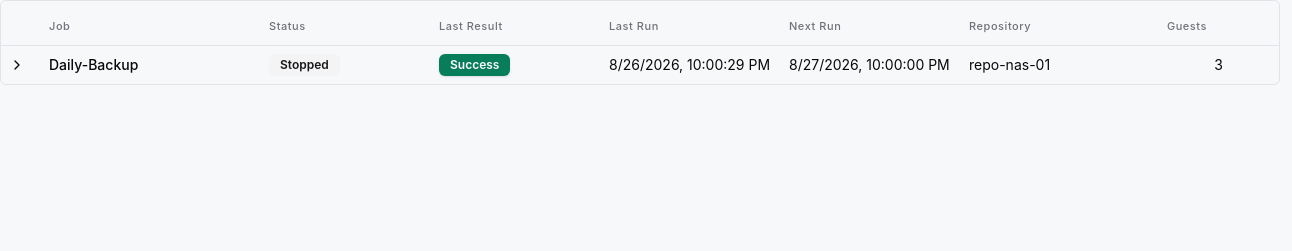
VeeamJobTable › reveals throughput and bottleneck when expanded
The image size is (1292, 251).
Expected: the text "00:18:27" is not shown
Click the text "Daily-Backup".
click(94, 64)  # box [49,56,138,72]
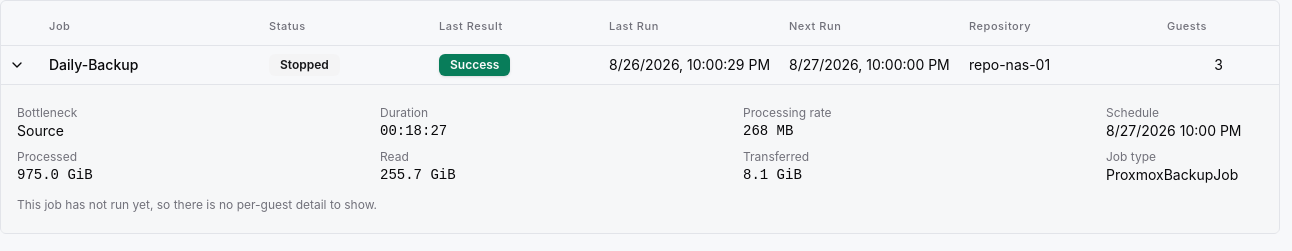
Now the text "00:18:27" is shown, box [380,122,447,138]
Now the text "268 MB" is shown, box [743,122,793,138]
Now the text "Source" is shown, box [17,122,64,138]
